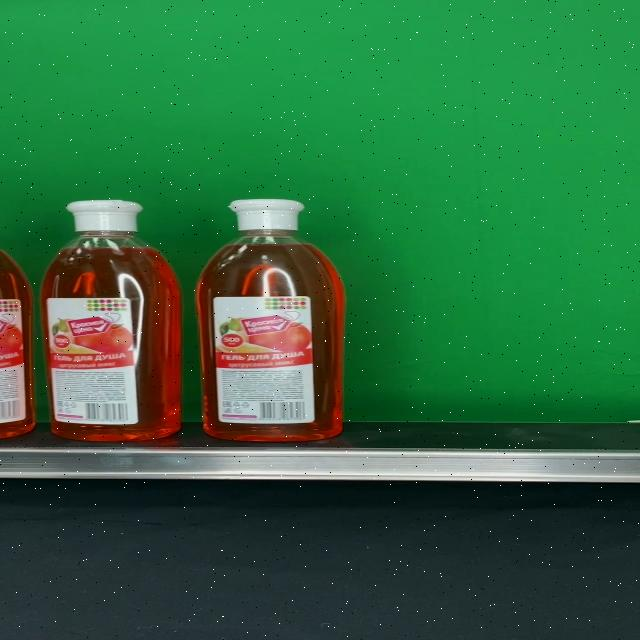Bottle: (196, 198, 346, 442), (41, 199, 183, 442)
Cap: (64, 200, 143, 232), (227, 198, 304, 230)
